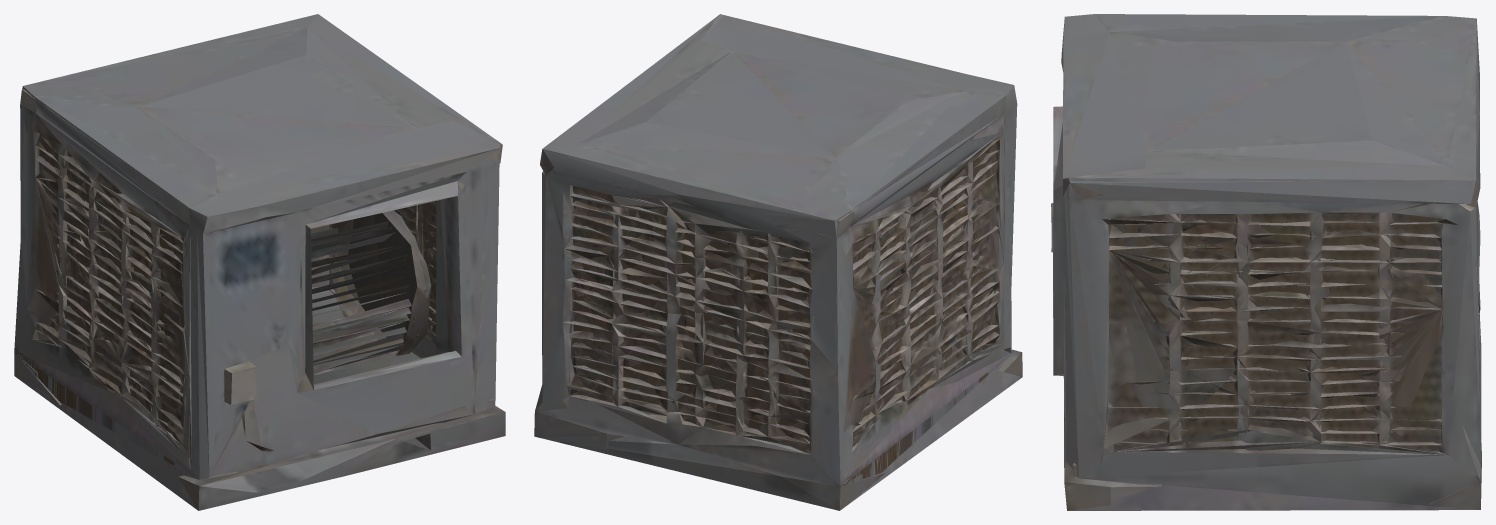
3 renders of one model, left to right at view 1: azimuth 30°, elevation 25°; view 2: azimuth 150°, elevation 25°; view 3: azimuth 270°, elevation 25°, orthographic. The views are drawn at different scales.
Visible parts, largest first — view 1: Mesh_0; view 2: Mesh_0; view 3: Mesh_0.
Boxes of the visible parts, x1=… form: Mesh_0: x1=14, y1=14, x2=505, y2=510; Mesh_0: x1=534, y1=14, x2=1022, y2=510; Mesh_0: x1=1051, y1=14, x2=1481, y2=510.
Size of the model in its own units: 1.77 by 1.64 by 1.9.
Materials: 1 (1 with a texture image).
